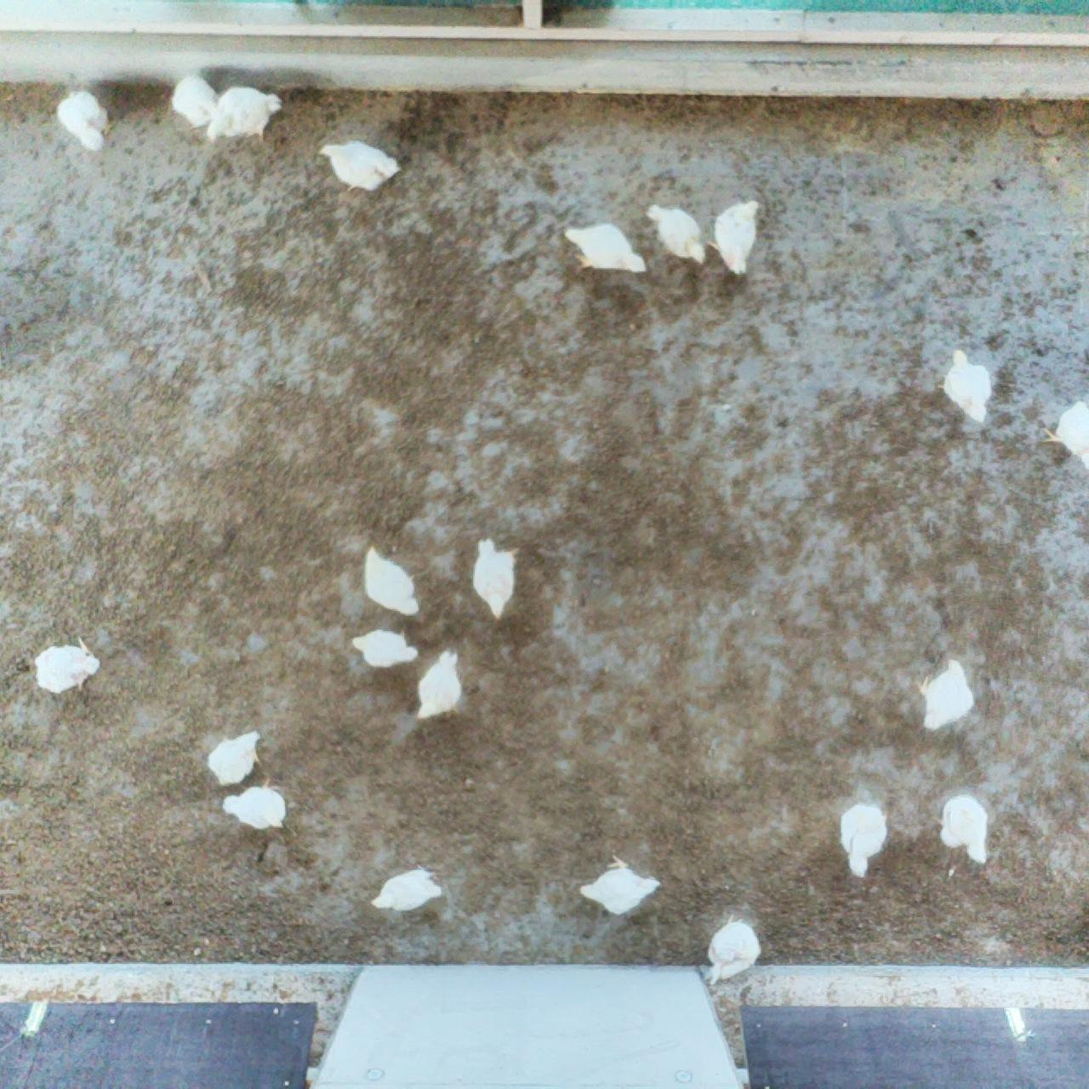chicken: (574, 853, 665, 917), (558, 217, 652, 278), (204, 83, 288, 146), (317, 138, 405, 194), (915, 655, 976, 733), (934, 348, 996, 424), (703, 909, 763, 987), (469, 536, 523, 621), (934, 789, 992, 868), (707, 193, 764, 272), (363, 543, 422, 618), (643, 202, 708, 269), (838, 799, 889, 879), (57, 86, 117, 153), (415, 646, 466, 721), (1036, 396, 1089, 468), (205, 724, 264, 788), (34, 636, 100, 693), (221, 775, 287, 832), (349, 622, 423, 670), (372, 867, 449, 912), (165, 72, 221, 128)
